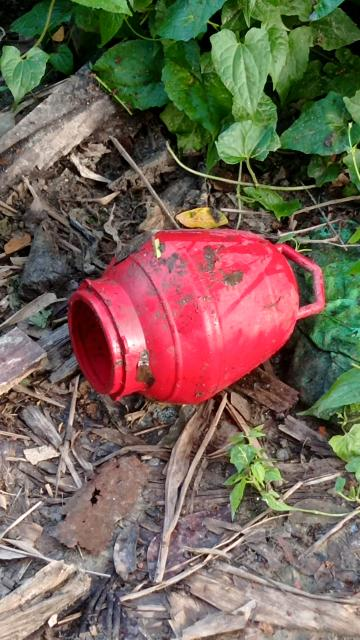hardplastic: (76, 208, 321, 420)
